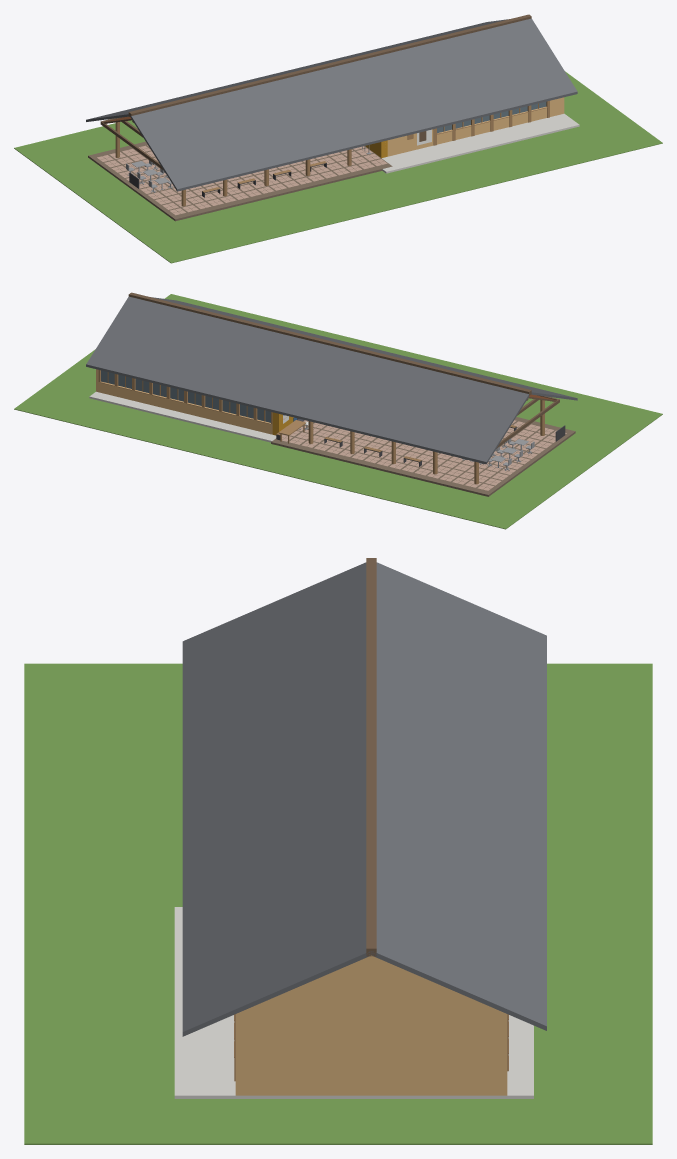
The model's file is auditorio.glb.
3 renders of one model, top to bottom at view 1: azimuth 30°, elevation 25°; view 2: azimuth 150°, elevation 25°; view 3: azimuth 270°, elevation 25°, orthographic. The views are drawn at different scales.
Parts seen in each view (by area): view 1: Auditorio; view 2: Auditorio; view 3: Auditorio.
Part boxes in pixels (x1,y1,x2,y2): Auditorio: [14, 14, 662, 263]; Auditorio: [14, 292, 662, 529]; Auditorio: [24, 558, 652, 1144].
Size of the model in its own units: 43.01 by 6.33 by 23.8.
